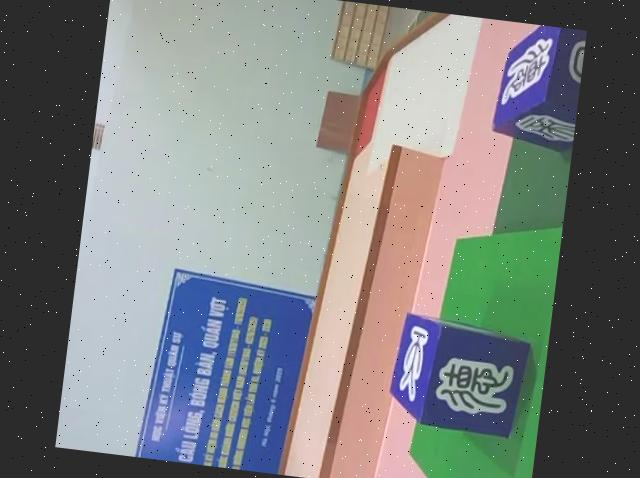R2 Fake Blue: (388, 309, 539, 439), (493, 21, 587, 151)
